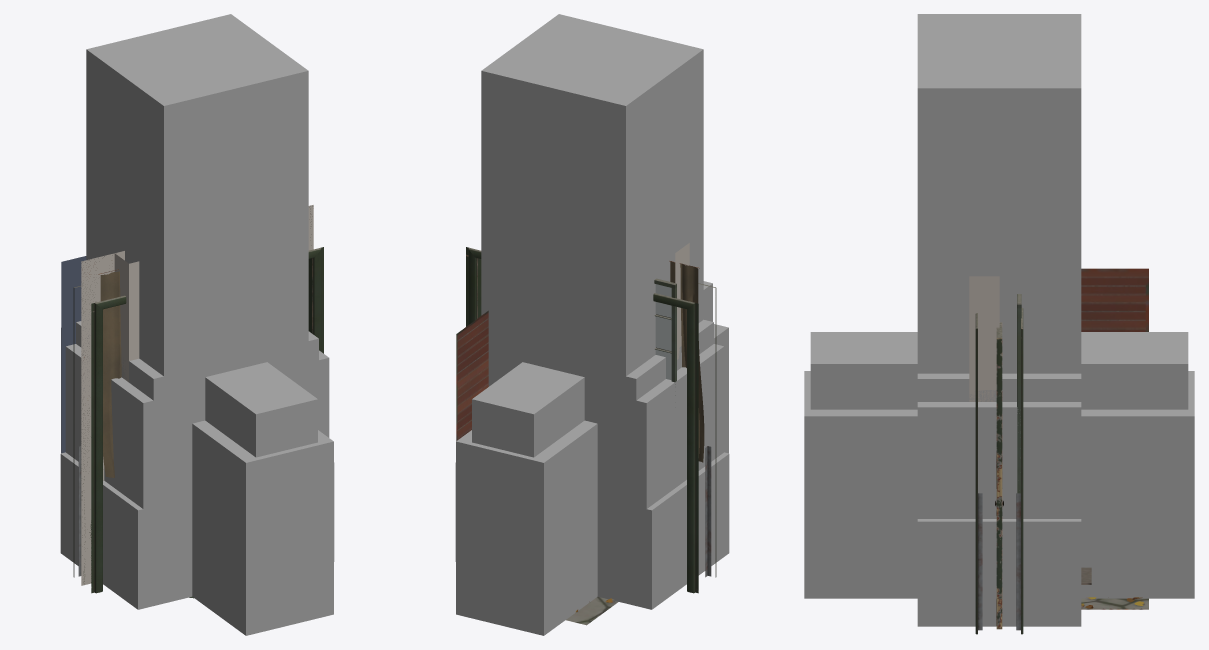
Rendered from workshop.glb.
3 views of the same model, side by side, from view 1: azimuth 30°, elevation 25°; view 2: azimuth 150°, elevation 25°; view 3: azimuth 270°, elevation 25° (orthographic). The views are drawn at different scales.
Parts seen in each view (by area): view 1: Isl_kiln, Solid_workbench, Isl_hanging_dolls, Isl_drying_rack, Solid_drying_rack, Isl_workbench_double, Door_frame_workshop, Solid_kiln, Door_closed_workshop, Mod_fireplace_workshop, Win_industrial_curtain, Exit_workshop_p1 (+2 smaller); view 2: Isl_kiln, Solid_workbench, Isl_hanging_dolls, Isl_drying_rack, Solid_drying_rack, Isl_workbench_double, Door_frame_workshop, Exit_workshop_p0, Solid_kiln, Win_industrial_curtain, Win_industrial_glass, Win_industrial_frame (+1 smaller); view 3: Isl_kiln, Solid_workbench, Isl_drying_rack, Solid_drying_rack, Isl_workbench_double, Exit_workshop_p0, Isl_hanging_dolls, Mod_fireplace_workshop, Door_frame_workshop, Solid_kiln, Door_leaf_workshop, Win_industrial_frame.
Part boxes in pixels (x1,y1,x2,y2): Isl_kiln: (86,14,308,377); Solid_workbench: (61,328,333,635); Isl_hanging_dolls: (76,321,318,605); Isl_drying_rack: (65,344,329,608); Solid_drying_rack: (205,362,317,457); Isl_workbench_double: (60,452,334,609); Door_frame_workshop: (73,247,323,593); Solid_kiln: (117,26,276,93); Door_closed_workshop: (81,205,313,585); Mod_fireplace_workshop: (81,205,313,585); Win_industrial_curtain: (98,269,121,477); Exit_workshop_p1: (61,256,86,453); Isl_kiln: (481,14,703,442); Solid_workbench: (456,324,728,635); Isl_hanging_dolls: (488,319,713,605); Isl_drying_rack: (489,344,724,607); Solid_drying_rack: (472,281,712,457); Isl_workbench_double: (455,452,729,609); Door_frame_workshop: (466,247,716,593); Exit_workshop_p0: (456,310,618,625); Solid_kiln: (513,26,672,93); Win_industrial_curtain: (669,261,704,462); Win_industrial_glass: (655,284,671,380); Win_industrial_frame: (654,278,676,395); Isl_kiln: (917,14,1081,373); Solid_workbench: (804,371,1194,598); Isl_drying_rack: (917,402,1081,518); Solid_drying_rack: (810,332,1188,409); Isl_workbench_double: (917,519,1081,626); Exit_workshop_p0: (1081,268,1148,609); Isl_hanging_dolls: (917,373,1081,401); Mod_fireplace_workshop: (969,276,999,401); Door_frame_workshop: (975,308,1023,634); Solid_kiln: (937,25,1061,77); Door_leaf_workshop: (995,322,1003,629); Win_industrial_frame: (1017,294,1021,493).
Size of the model in its own units: 2.25 by 4.87 by 3.1.
Materials: 18 (13 with a texture image).
